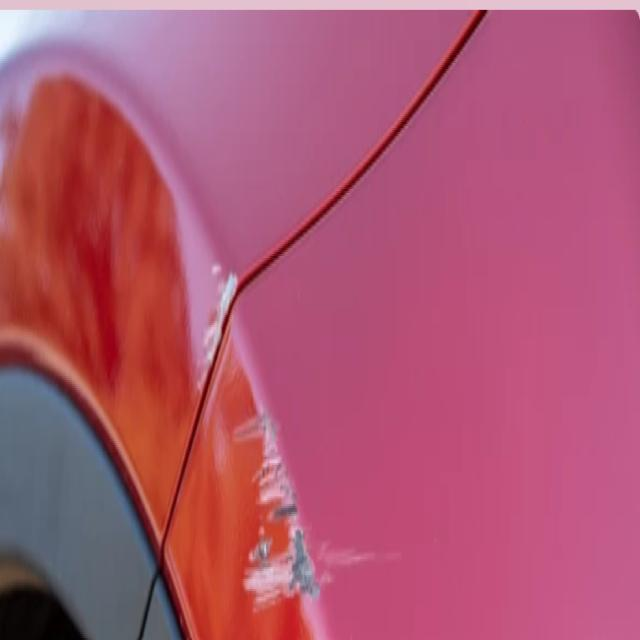scratch: (194, 220, 356, 631)
